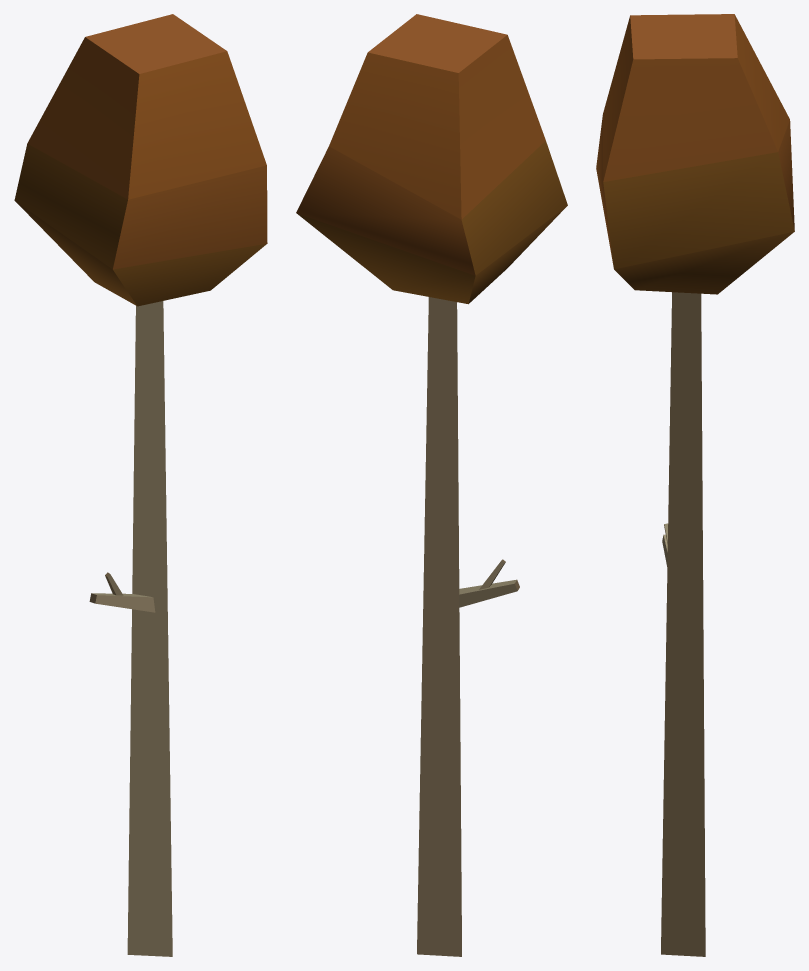
The model's file is SF_Env_Tree_016.fbx.
3 views of the same model, side by side, from view 1: azimuth 30°, elevation 25°; view 2: azimuth 150°, elevation 25°; view 3: azimuth 270°, elevation 25° (orthographic).
Visible parts, largest first — view 1: SF_Env_Tree_Tall_02; view 2: SF_Env_Tree_Tall_02; view 3: SF_Env_Tree_Tall_02.
Boxes of the visible parts, left/top/right/bottom form: SF_Env_Tree_Tall_02: left=14, top=14, right=267, bottom=956; SF_Env_Tree_Tall_02: left=296, top=14, right=567, bottom=956; SF_Env_Tree_Tall_02: left=596, top=14, right=794, bottom=956.
Size of the model in its own units: 2.02 by 9.87 by 1.94.
